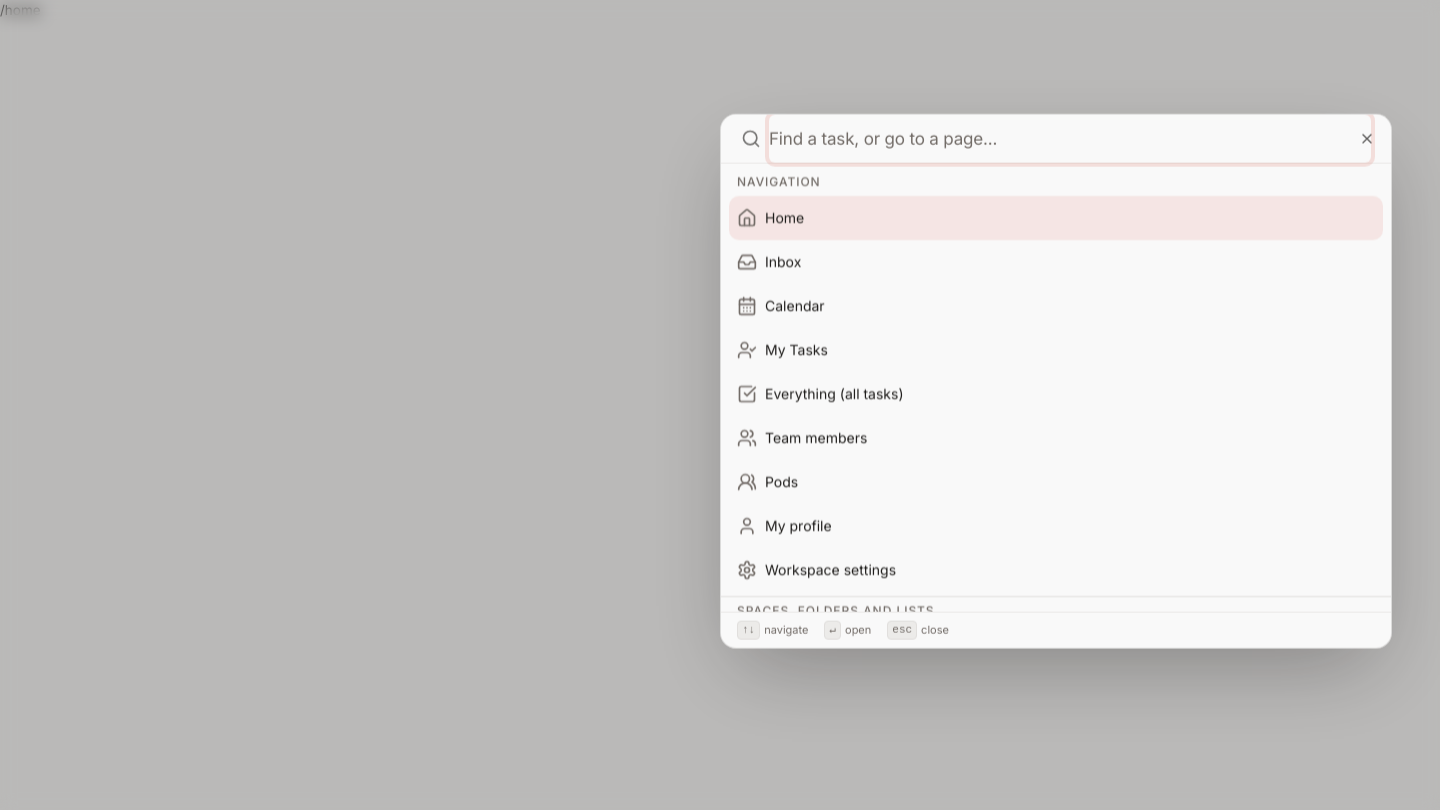
it: find any task from the command palette › keeps finding pages and lists too, alongside tasks
The image size is (1440, 810).
Type "conor" into the dropdown with placeholder "Find a task, or go to a page..." at (1070, 138), box [769,114,1371,162]
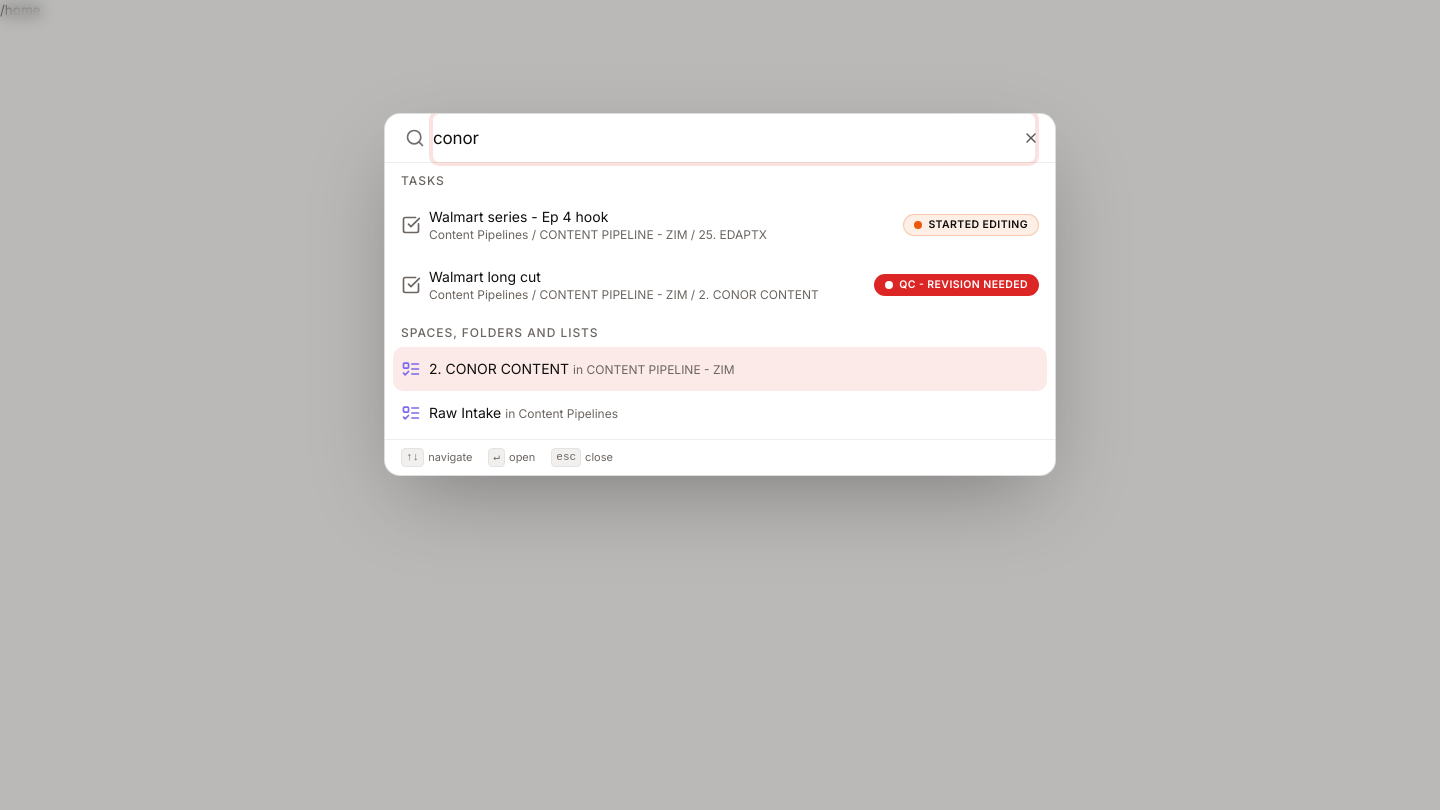
Result: the option "2. CONOR CONTENT in CONTENT PIPELINE - ZIM" is shown at [393,347,1047,391]
